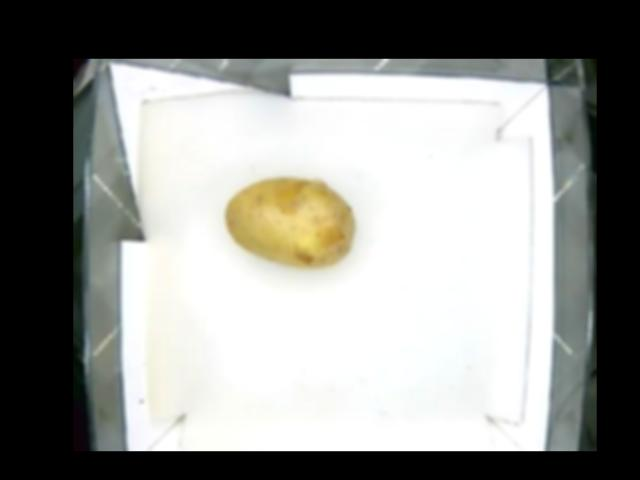Potato: (224, 174, 357, 271)
